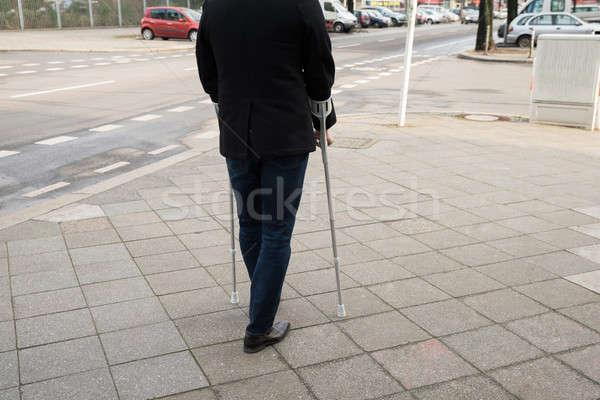crutches: (193, 1, 359, 356)
